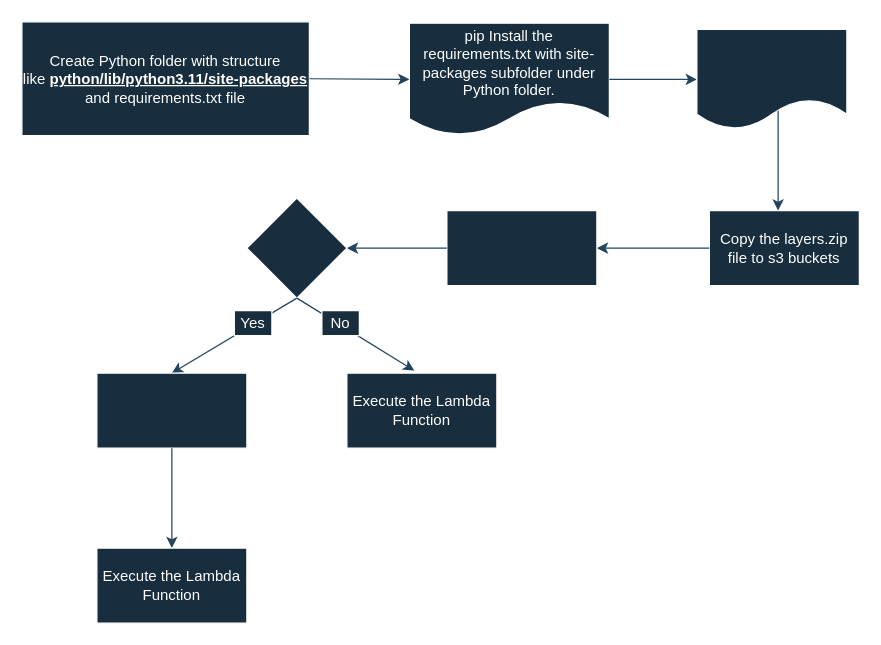
This 881x645 diagram has some shape labels left out. Each missing label, with the centre of its shape:
"Create lambda function and write the business logic" goes at (x=521, y=247).
"Create Layer in the lambda function. Upload the layers.zip file." goes at (x=171, y=410).
"External Libraries" goes at (x=296, y=247).
"zip the python folder as layers.zip" goes at (x=771, y=78).
